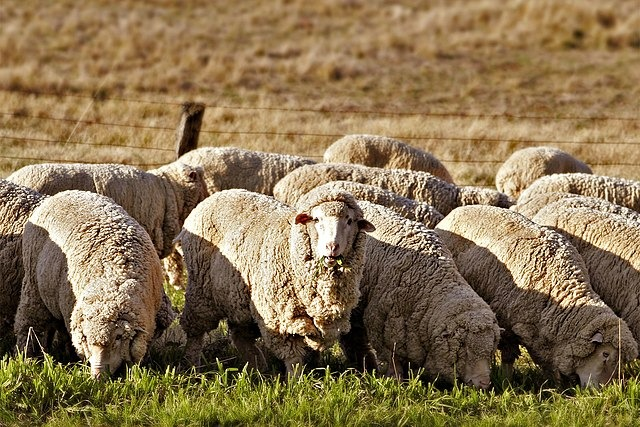grazing: (435, 205, 637, 388), (340, 190, 500, 391), (12, 190, 166, 375)
standing: (178, 186, 361, 372)
